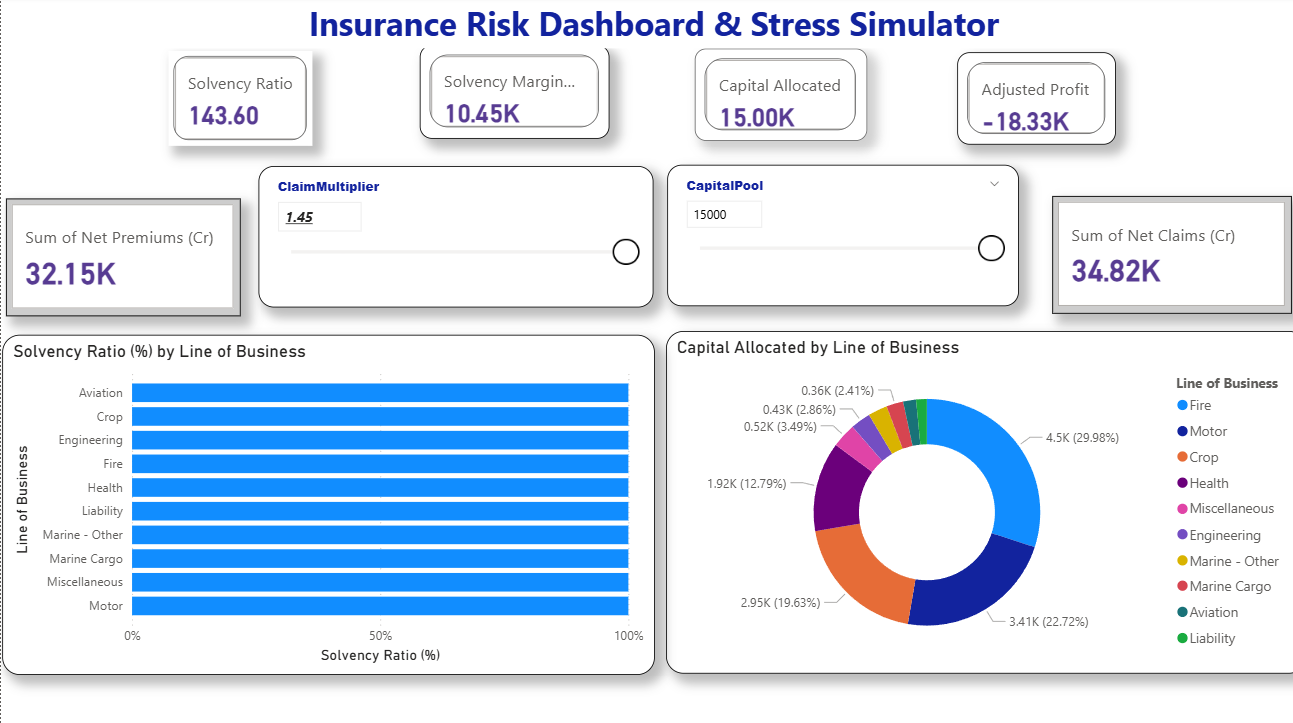

The page's visual inventory and layout, read from the dashboard file:
{"tool":"powerbi","page":{"name":"Solvency & Risk Executive Dashboard","canvas":[1280,720],"ordinal":0},"visuals":[{"type":"cardVisual","fields":{"Data":["Sum(GLC.Required Solvency Margin (Cr))"]},"box":[409.6,47.4,185.9,91.7],"z":0},{"type":"cardVisual","fields":{"Data":["GLC.Capital Allocated"]},"box":[678.7,51.1,168.8,90.5],"z":1000},{"type":"cardVisual","fields":{"Data":["GLC.Solvency Ratio (%)"]},"box":[164.3,54.3,140.6,92.9],"z":2000},{"type":"cardVisual","fields":{"Data":["GLC.Adjusted Profit"]},"box":[935,54.8,155.3,90.5],"z":3000},{"type":"cardVisual","fields":{"Data":["Sum(GLC.Net Claims (Cr))"]},"box":[1028.2,195.9,234.8,114.9],"z":4000},{"type":"cardVisual","fields":{"Data":["Sum(GLC.Net Premiums (Cr))"]},"box":[4.9,197.6,229.9,114.9],"z":5000},{"type":"slicer","fields":{"Values":["ClaimMultiplier.ClaimMultiplier"]},"box":[251.9,166.1,386.4,138.2],"z":6000},{"type":"slicer","fields":{"Values":["CapitalPool.CapitalPool"]},"box":[651.8,165.3,343.6,138.2],"z":7000},{"type":"donutChart","fields":{"Category":["GLC.Line of Business"],"Y":["GLC.Capital Allocated"]},"box":[650.5,327.7,626.1,335.1],"z":8000},{"type":"hundredPercentStackedBarChart","fields":{"Category":["GLC.Line of Business"],"Y":["GLC.Solvency Ratio (%)"]},"box":[1,331.1,638.3,332.6],"z":9000},{"type":"textbox","box":[4.9,0,1275.4,51.4],"z":9001}]}

Visuals, with their boxes in screenshot pixels (x1, y1, x2, y2), scaled from the page's 1280x720 canvas onto the 1293x723 screenshot:
cardVisual - Sum(GLC.Required Solvency Margin (Cr)): locate(414, 48, 602, 140)
cardVisual - GLC.Capital Allocated: locate(686, 51, 856, 142)
cardVisual - GLC.Solvency Ratio (%): locate(166, 55, 308, 148)
cardVisual - GLC.Adjusted Profit: locate(944, 55, 1101, 146)
cardVisual - Sum(GLC.Net Claims (Cr)): locate(1039, 197, 1276, 312)
cardVisual - Sum(GLC.Net Premiums (Cr)): locate(5, 198, 237, 314)
slicer - ClaimMultiplier.ClaimMultiplier: locate(254, 167, 645, 306)
slicer - CapitalPool.CapitalPool: locate(658, 166, 1006, 305)
donutChart - GLC.Line of Business x GLC.Capital Allocated: locate(657, 329, 1290, 666)
hundredPercentStackedBarChart - GLC.Line of Business x GLC.Solvency Ratio (%): locate(1, 332, 646, 666)
textbox: locate(5, 0, 1292, 52)
